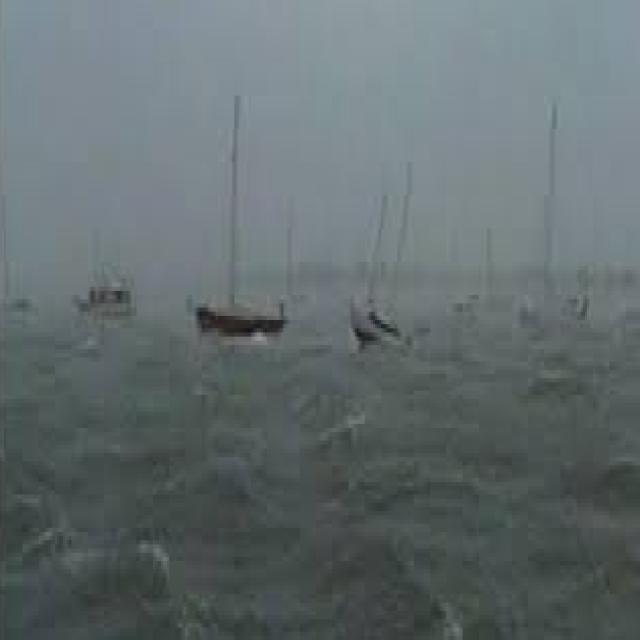fishing boat: (194, 237, 290, 336), (4, 162, 46, 315), (344, 275, 410, 344), (77, 255, 129, 327)
